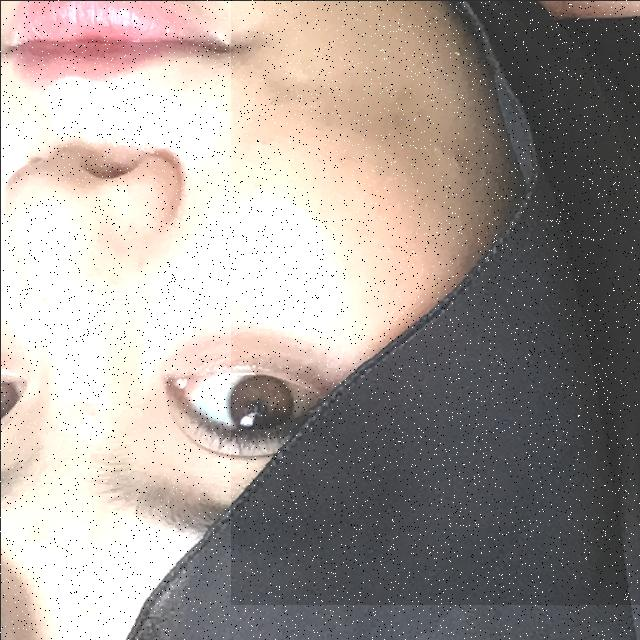mendengar: (230, 0, 640, 604)
